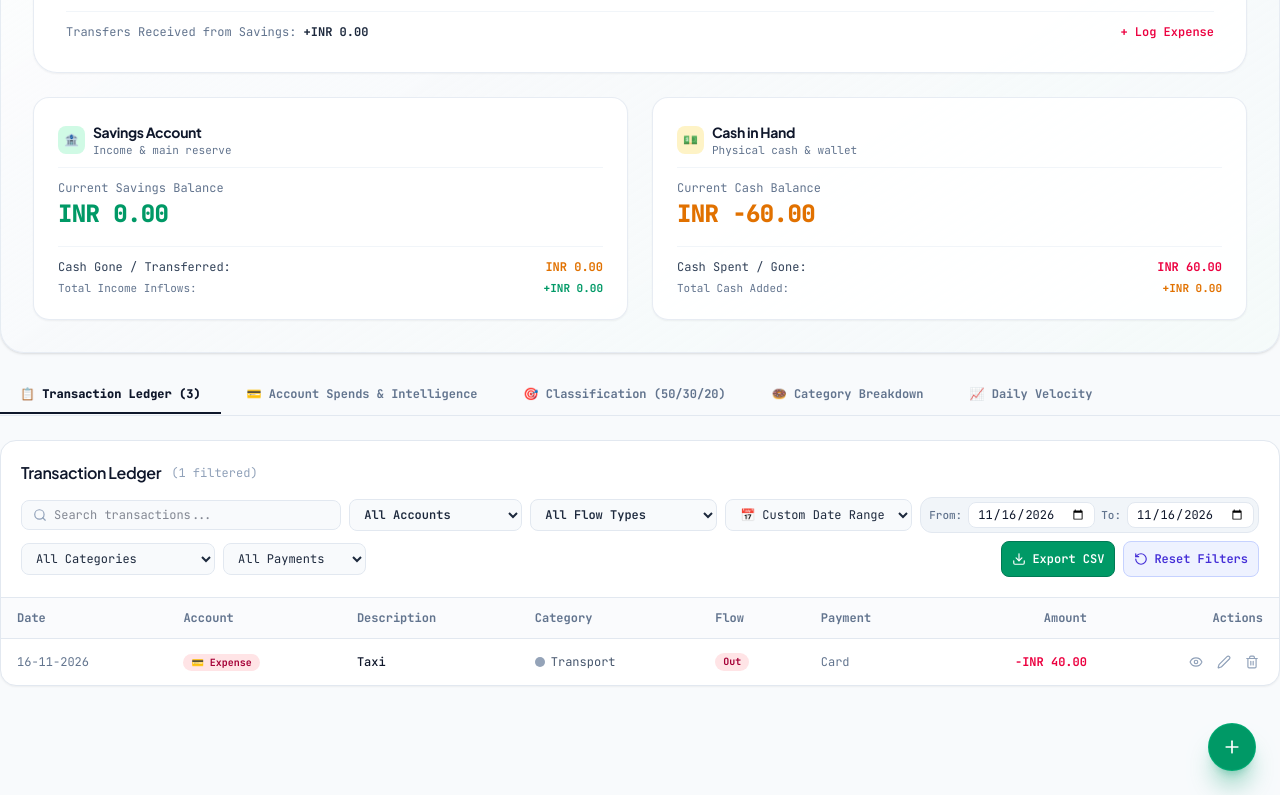
it: mounts only the shared filter toolbar in Account Spends & Intelligence
This screenshot has width=1280, height=795.
(page scrolled)
What coordinates should you click on to do the following:
click the button "💳 Account Spends & Intelligence"
I would click on:
 (362, 396)
Its box is x1=227 y1=377 x2=498 y2=414.
(page scrolled)
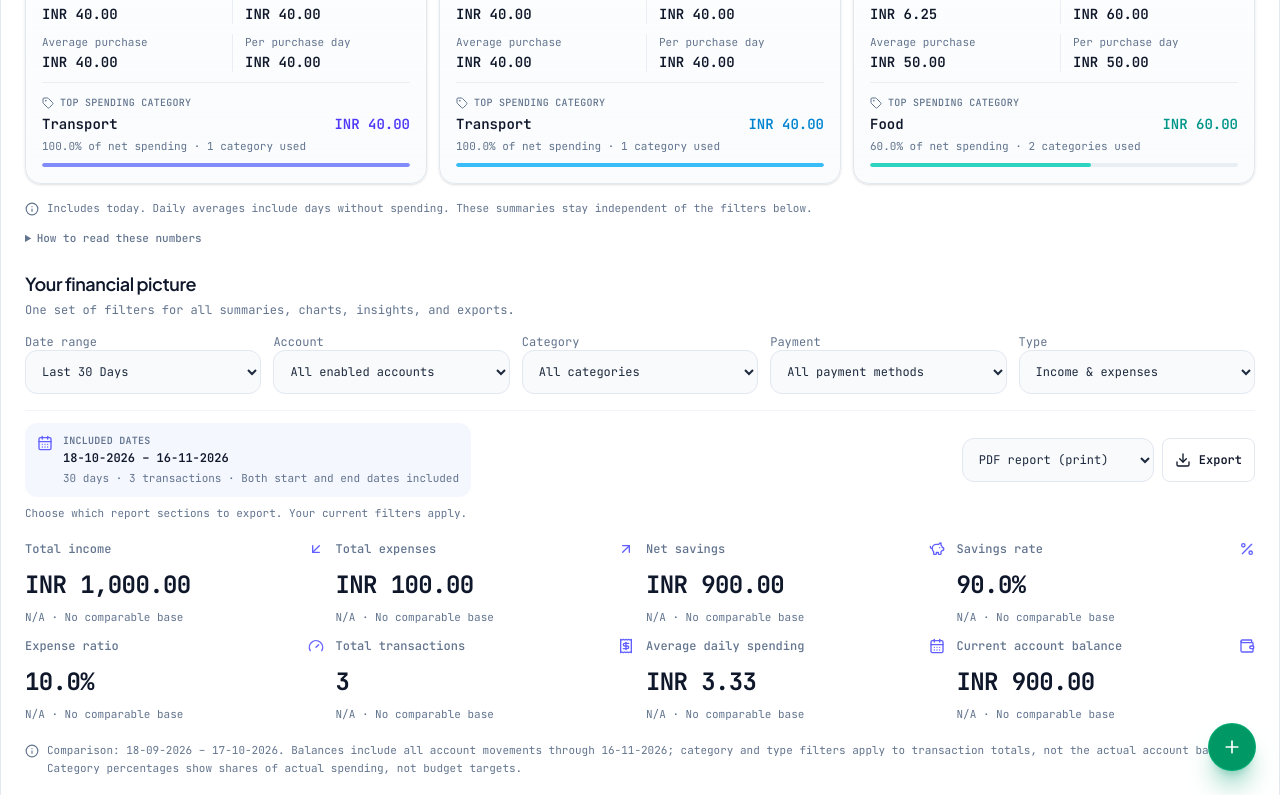
Now the element named "Shared report filters" is shown, box x1=25 y1=270 x2=1255 y2=521
Now the number of dropdowns named "Analytics period" is 1, box x1=25 y1=350 x2=261 y2=394
Now the number of dropdowns named "Analytics account" is 1, box x1=273 y1=350 x2=510 y2=394
